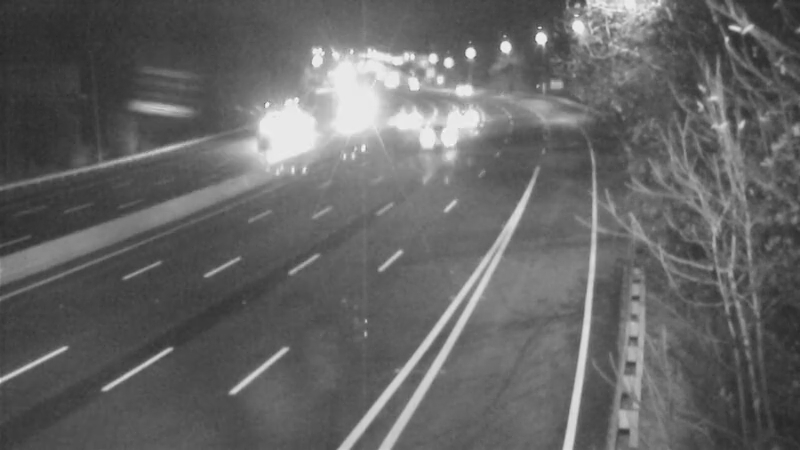vehicle: (383, 54, 433, 104), (365, 59, 415, 109), (383, 61, 433, 111), (444, 69, 494, 119), (441, 91, 491, 141), (376, 94, 426, 144), (415, 111, 465, 161), (243, 103, 293, 153), (261, 116, 311, 166), (325, 95, 375, 145)
